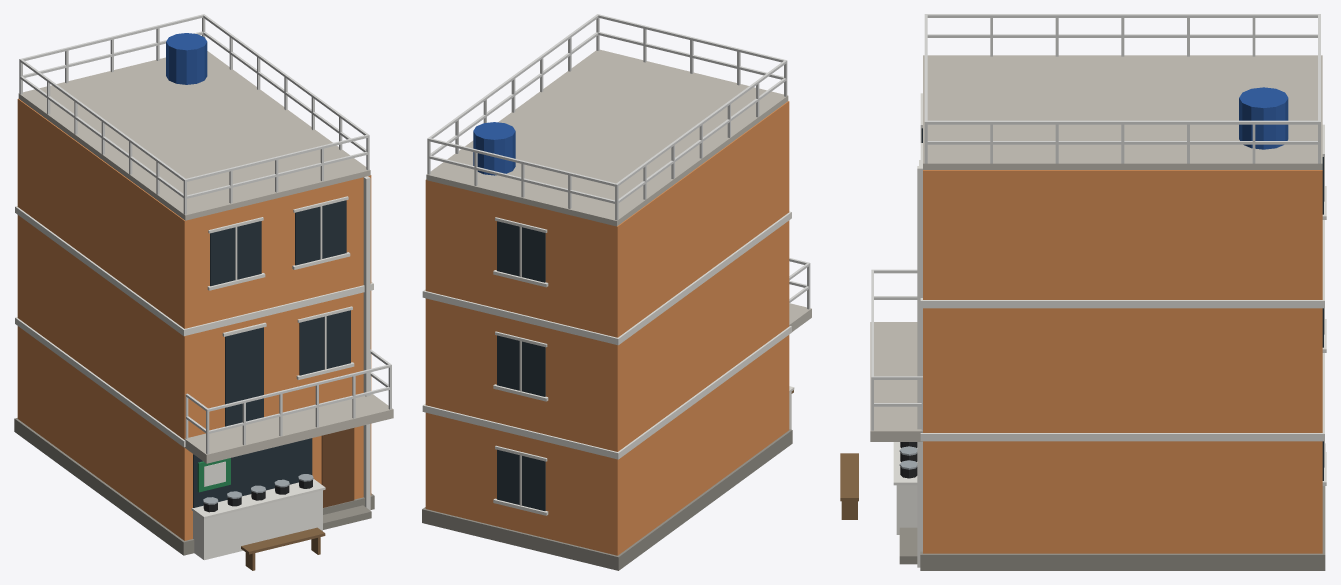
File: BAY_F_ThreeStorey_H.glb
3 renders of one model, left to right at view 1: azimuth 30°, elevation 25°; view 2: azimuth 150°, elevation 25°; view 3: azimuth 270°, elevation 25°, orthographic. The views are drawn at different scales.
Visible parts, largest first — view 1: BAY_F_ThreeStorey_H; view 2: BAY_F_ThreeStorey_H; view 3: BAY_F_ThreeStorey_H.
Part boxes in pixels (<box>): BAY_F_ThreeStorey_H: <box>14,14,393,570</box>; BAY_F_ThreeStorey_H: <box>422,14,811,570</box>; BAY_F_ThreeStorey_H: <box>840,14,1326,570</box>.
Size of the model in its own units: 4.5 by 8.4 by 8.28.
Materials: 1 (1 with a texture image).
